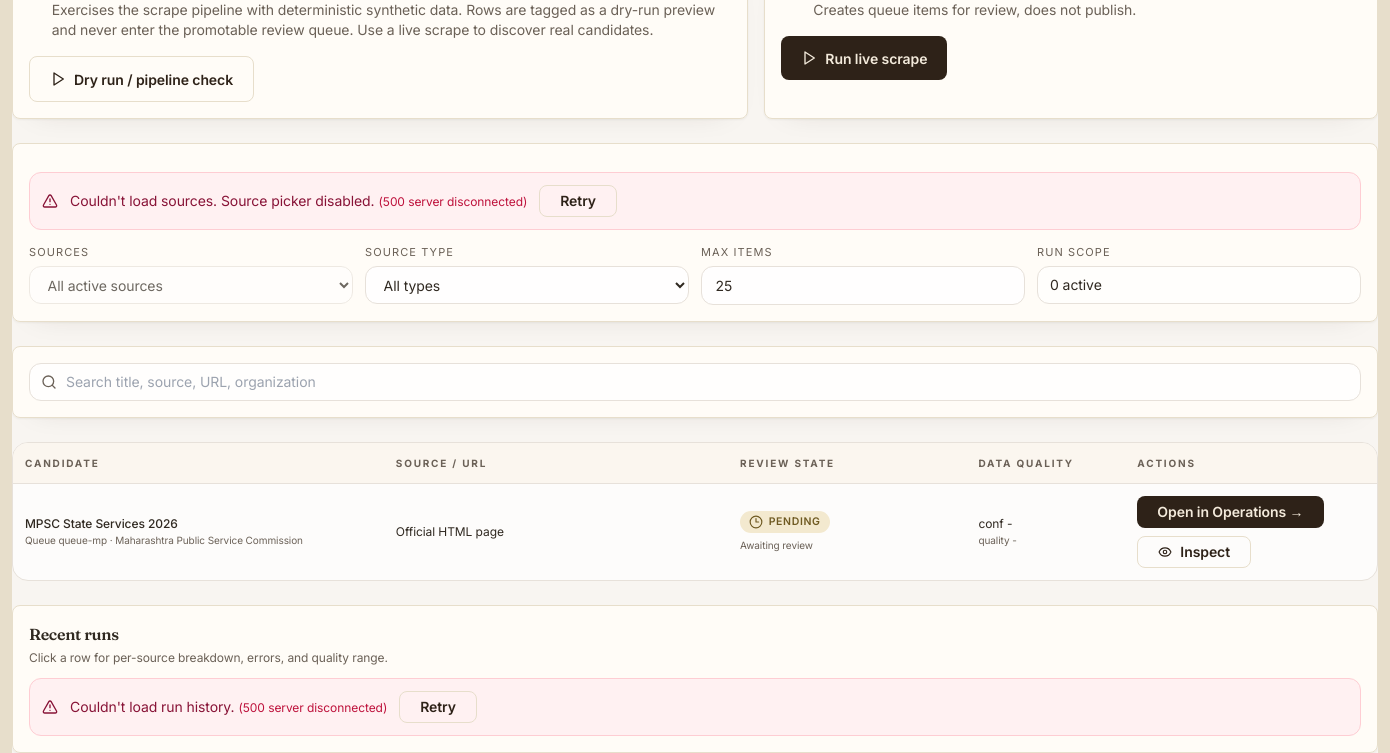
clicking runs Retry refires only /api/admin/scrape/runs
(page scrolled)
Expected: the message "Couldn't load run history.(500 server disconnected) Retry" is shown, [29,678,1361,736]
Click the button with test id "scraper-runs-retry".
click(438, 707)  # box [399,691,477,723]
(page scrolled)
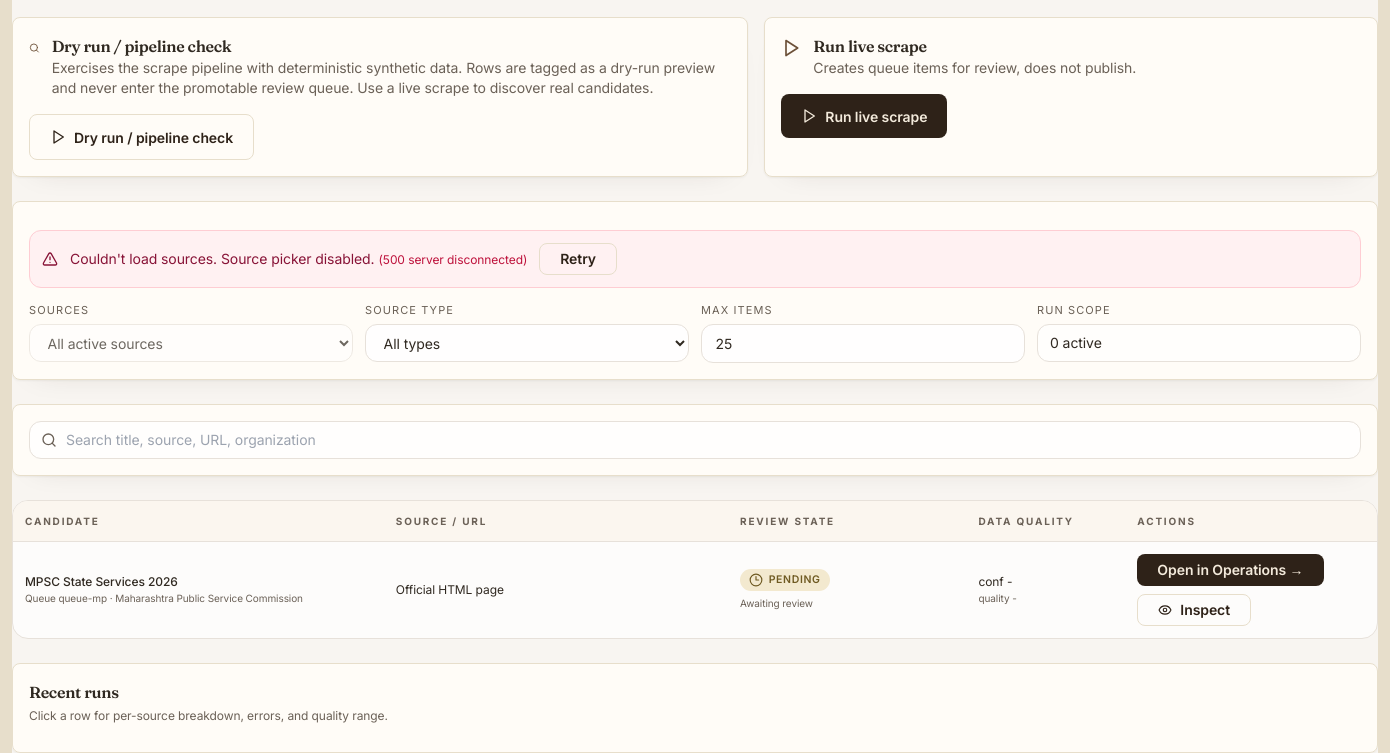
Expected: the message "Couldn't load sources. Source picker disabled.(500 server disconnected) Retry" is shown, [29,230,1361,288]
Expected: the message with test id "scraper-runs-error" is gone
